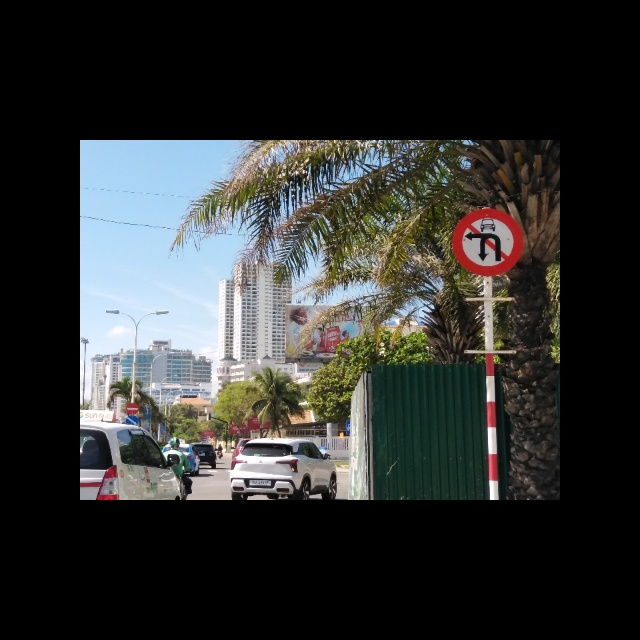Cấm xe ô tô quay đầu và rẽ trái: (453, 209, 524, 276)
